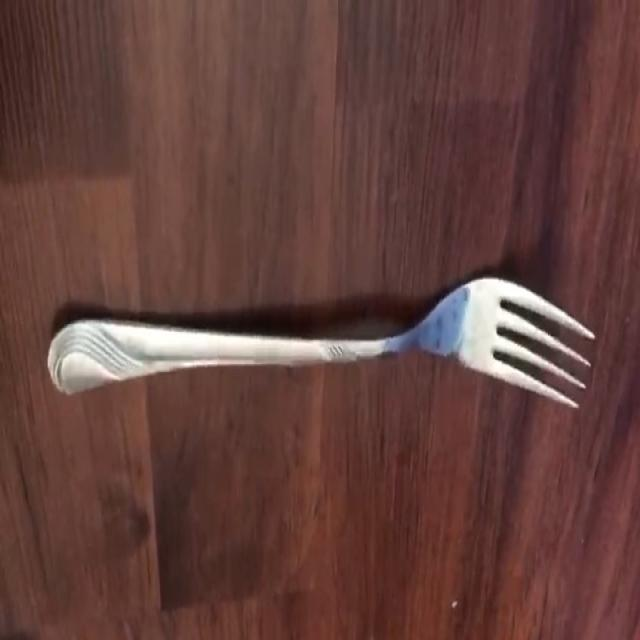spoon: (48, 278, 593, 408)
